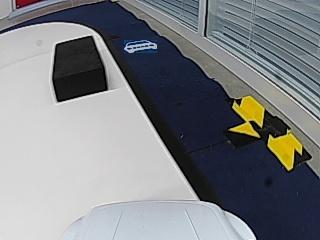block: (51, 37, 107, 102)
